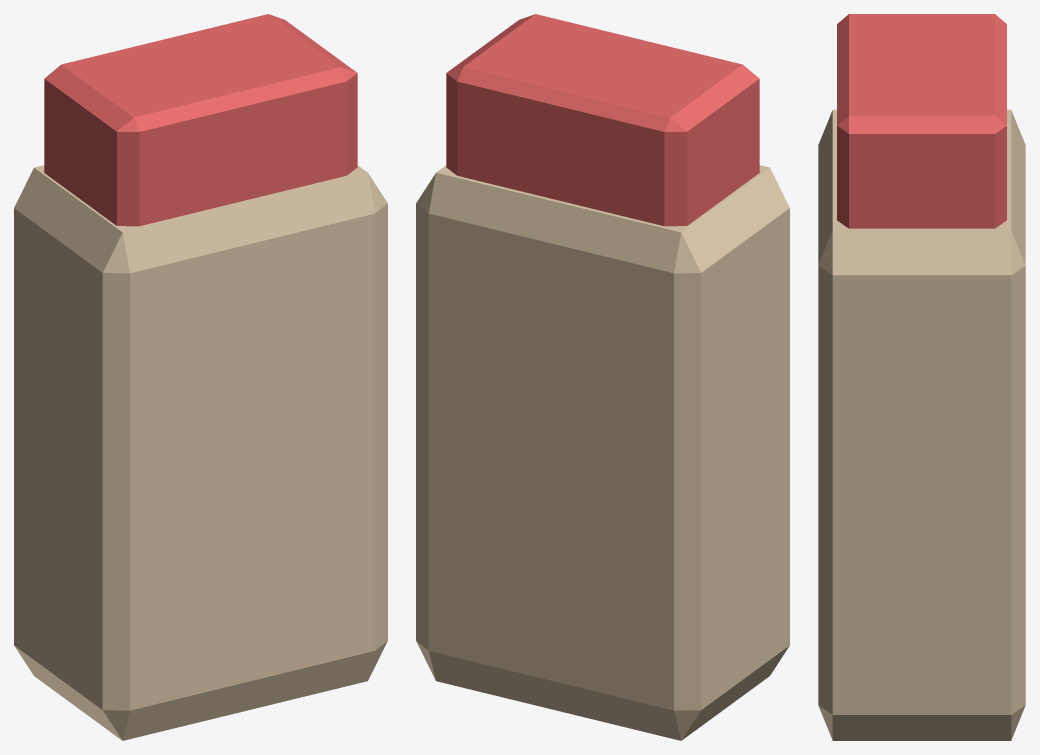
Rendered from b16_french_fry_carton.glb.
3 views of the same model, side by side, from view 1: azimuth 30°, elevation 25°; view 2: azimuth 150°, elevation 25°; view 3: azimuth 270°, elevation 25° (orthographic).
Visible parts, largest first — view 1: b16_french_fry_carton; view 2: b16_french_fry_carton; view 3: b16_french_fry_carton.
Boxes of the visible parts, x1,y1,x2,y2 form: b16_french_fry_carton: (14, 14, 387, 740); b16_french_fry_carton: (416, 14, 789, 740); b16_french_fry_carton: (818, 14, 1025, 740).
Size of the model in its own units: 0.075 by 0.154 by 0.047.
